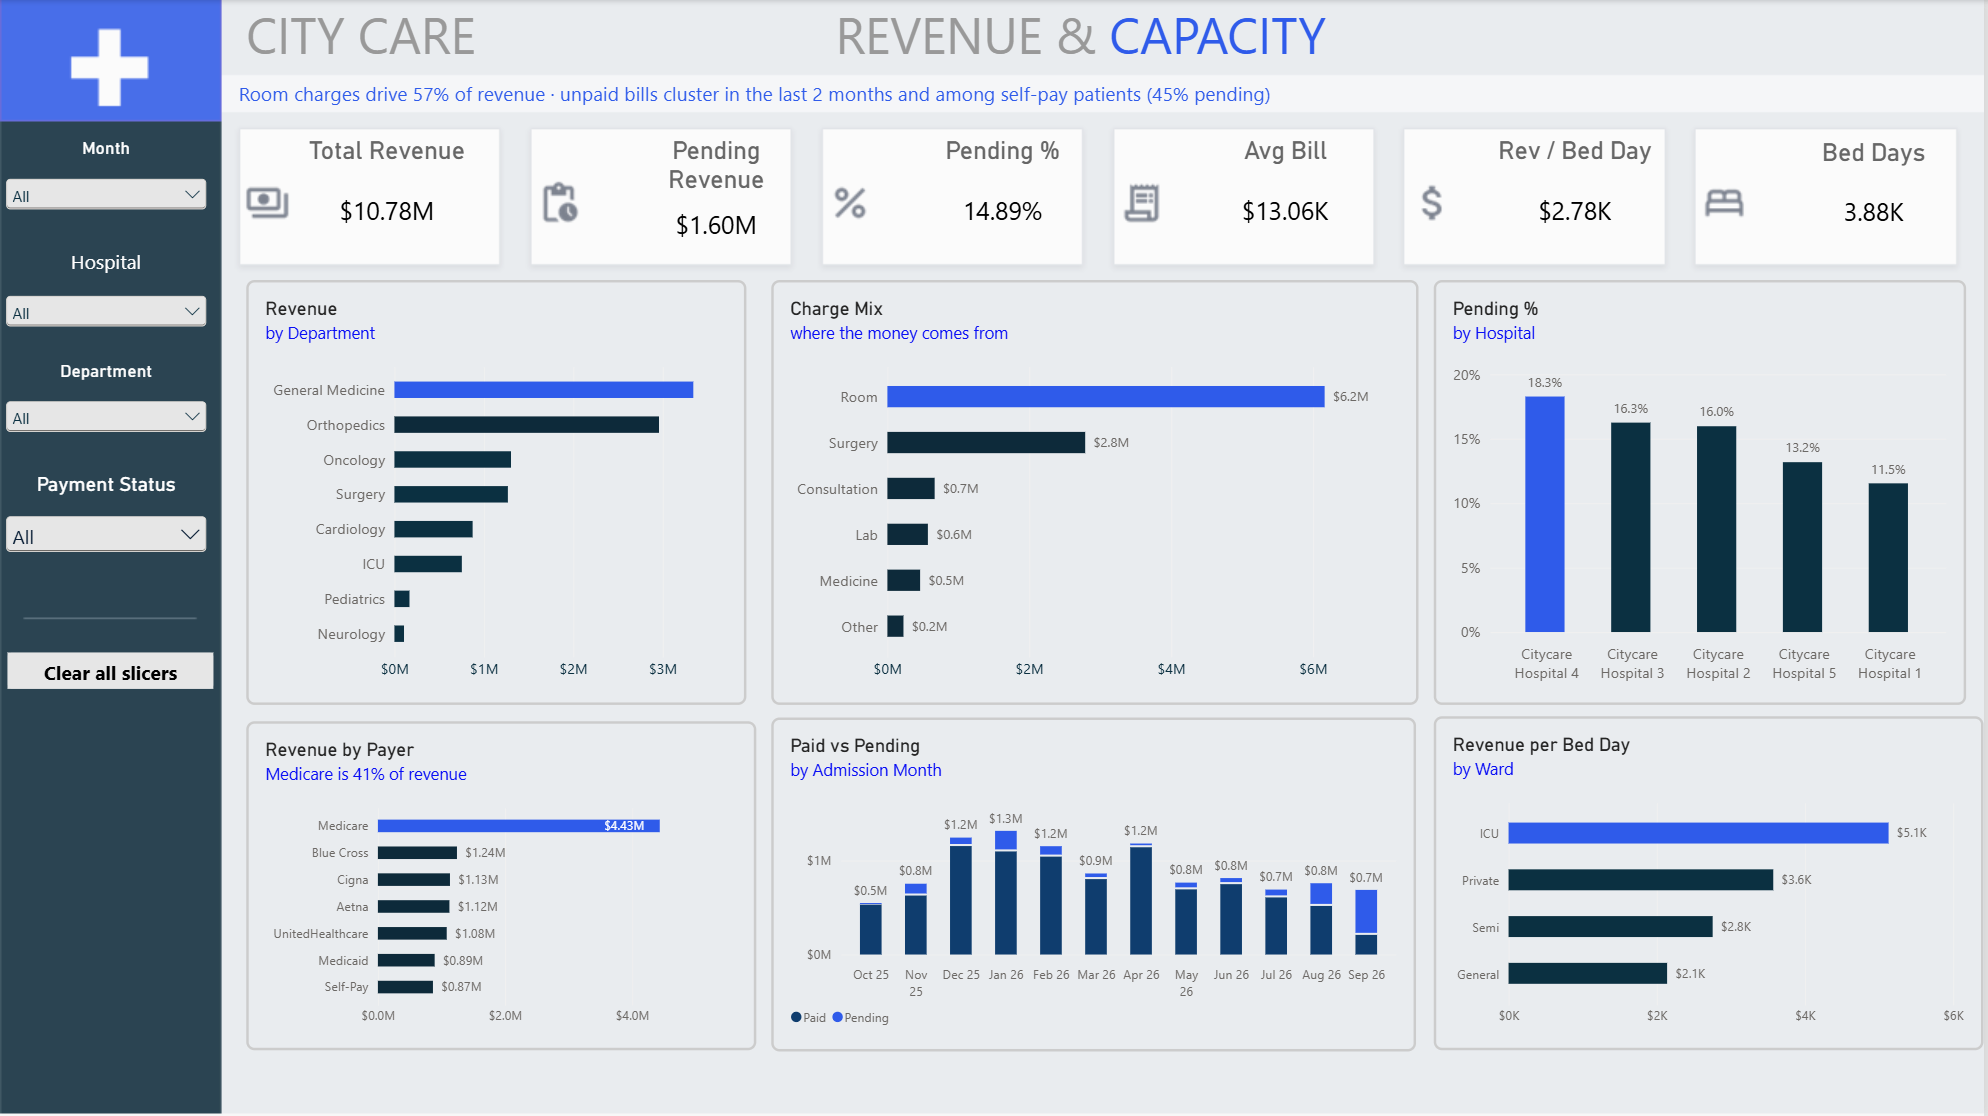

Layout of this report page (visuals, bound fields, positions):
{"tool":"powerbi","page":{"name":"Revenue & Capacity","canvas":[1920,1080],"ordinal":2},"visuals":[{"type":"barChart","title":"Revenue ","fields":{"Category":["Departments.DepartmentName"],"Y":["Measures..Total Revenue"]},"box":[238.3,271,483.9,411.3],"z":0},{"type":"textbox","box":[746.4,0,624.2,77.4],"z":1000},{"type":"cardVisual","title":"Total Revenue","fields":{"Data":["Measures..Total Revenue"]},"box":[273.4,131.9,202,124.6],"z":2000},{"type":"cardVisual","title":"Pending Revenue","fields":{"Data":["Measures..Pending Revenue"]},"box":[614.5,131.9,157.3,124.6],"z":3000},{"type":"cardVisual","title":"Pending %","fields":{"Data":["Measures..Pending Pct"]},"box":[895.2,131.9,150,125],"z":4000},{"type":"cardVisual","title":"Avg Bill","fields":{"Data":["Measures..Avg Bill per Admission"]},"box":[1157.7,131.9,173,124.6],"z":5000},{"type":"cardVisual","title":"Rev / Bed Day","fields":{"Data":["Measures..Revenue per Bed Day"]},"box":[1439.5,131.9,169.4,124.6],"z":6000},{"type":"cardVisual","title":"Bed Days","fields":{"Data":["Measures..Total Bed Days Used"]},"box":[1738.3,133.1,150,125],"z":7000},{"type":"clusteredBarChart","title":"Revenue by Payer","fields":{"Category":["Patients.InsuranceProvider"],"Y":["Measures..Total Revenue"]},"box":[238.3,698,493.6,318.1],"z":8000},{"type":"columnChart","title":"Paid vs Pending ","fields":{"Category":["Date.Year-Month"],"Series":["Billing.PaymentStatus"],"Y":["Measures..Total Revenue"]},"box":[746.4,694.4,624.2,323],"z":9000},{"type":"columnChart","title":"Pending % ","fields":{"Category":["Hospitals.HospitalName"],"Y":["Measures..Pending Pct"]},"box":[1387.5,271,515.3,411.3],"z":10000},{"type":"textbox","box":[660.5,0,770.4,65.1],"z":11000},{"type":"clusteredBarChart","title":"Revenue per Bed Day ","fields":{"Category":["Admissions.Ward"],"Y":["Measures..Revenue per Bed Day"]},"box":[1387.5,693.1,532.3,323],"z":12000},{"type":"clusteredBarChart","title":"Charge Mix ","fields":{"Category":["Charge Type.Charge Type"],"Y":["Measures..Charge Amount"]},"box":[746.4,271,626.6,411.3],"z":13000},{"type":"slicer","title":"Payment Status","fields":{"Values":["Billing.PaymentStatus"]},"box":[0.9,457.3,203.2,98],"z":14000},{"type":"textbox","box":[238.3,0,275.8,65.3],"z":15000},{"type":"slicer","title":"Hospital","fields":{"Values":["Hospitals.HospitalName"]},"box":[1,240.5,203,78],"z":16000},{"type":"textbox","box":[230.8,76.9,1156.6,30.8],"z":16001},{"type":"slicer","title":"Department","fields":{"Values":["Departments.DepartmentName"]},"box":[0.9,348.6,203.2,78.6],"z":16002},{"type":"slicer","title":"Month","fields":{"Values":["Date.Year-Month"]},"box":[0.9,133.1,203.2,77.4],"z":16003},{"type":"actionButton","box":[7.3,631.5,199.6,35.1],"z":16004}]}

Visuals, with their boxes on the page's 1920x1080 design canvas (x1, y1, x2, y2). These are canvas units, not pixel positions in the 1988x1116 screenshot, which may show the page scaled, cropped or inside an application window:
"Revenue " barChart: x1=238, y1=271, x2=722, y2=682
textbox: x1=746, y1=0, x2=1371, y2=77
"Total Revenue" cardVisual: x1=273, y1=132, x2=475, y2=256
"Pending Revenue" cardVisual: x1=614, y1=132, x2=772, y2=256
"Pending %" cardVisual: x1=895, y1=132, x2=1045, y2=257
"Avg Bill" cardVisual: x1=1158, y1=132, x2=1331, y2=256
"Rev / Bed Day" cardVisual: x1=1440, y1=132, x2=1609, y2=256
"Bed Days" cardVisual: x1=1738, y1=133, x2=1888, y2=258
"Revenue by Payer" clusteredBarChart: x1=238, y1=698, x2=732, y2=1016
"Paid vs Pending " columnChart: x1=746, y1=694, x2=1371, y2=1017
"Pending % " columnChart: x1=1388, y1=271, x2=1903, y2=682
textbox: x1=660, y1=0, x2=1431, y2=65
"Revenue per Bed Day " clusteredBarChart: x1=1388, y1=693, x2=1920, y2=1016
"Charge Mix " clusteredBarChart: x1=746, y1=271, x2=1373, y2=682
"Payment Status" slicer: x1=1, y1=457, x2=204, y2=555
textbox: x1=238, y1=0, x2=514, y2=65
"Hospital" slicer: x1=1, y1=240, x2=204, y2=318
textbox: x1=231, y1=77, x2=1387, y2=108
"Department" slicer: x1=1, y1=349, x2=204, y2=427
"Month" slicer: x1=1, y1=133, x2=204, y2=210
actionButton: x1=7, y1=632, x2=207, y2=667
